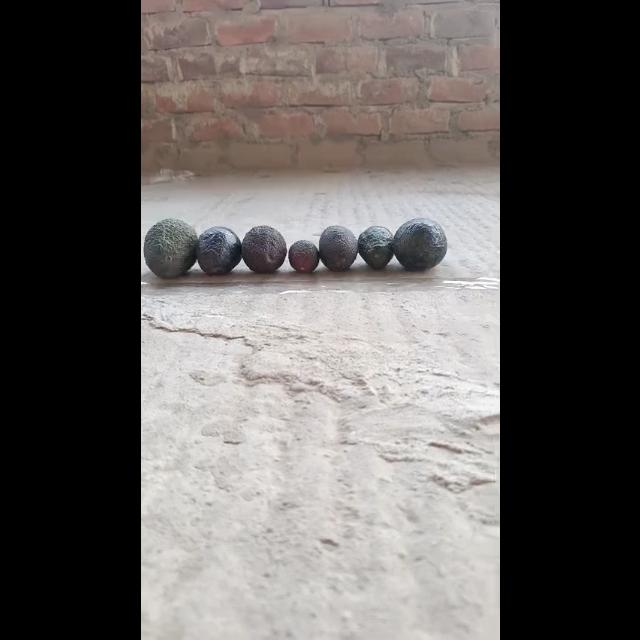Primera: (140, 216, 198, 278), (392, 218, 446, 270)
Segunda: (194, 225, 242, 275), (240, 224, 286, 274), (318, 225, 357, 271), (356, 224, 394, 270)
Tercera: (287, 239, 319, 273)
